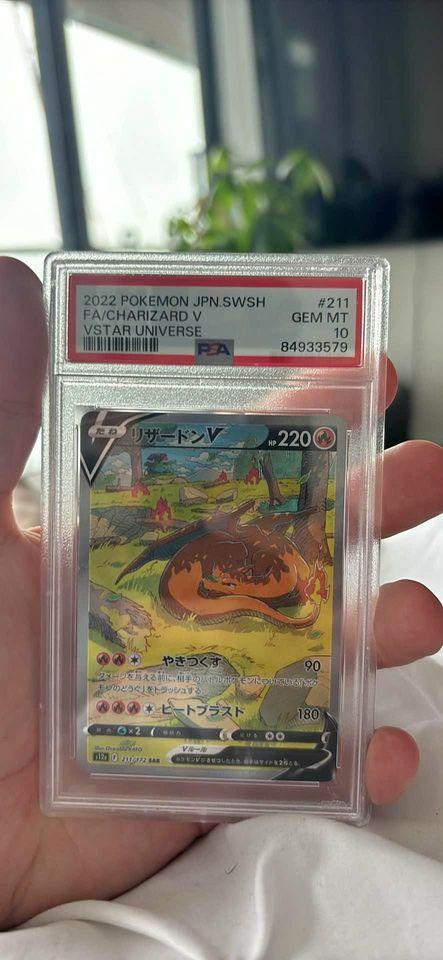card: (77, 411, 348, 783)
